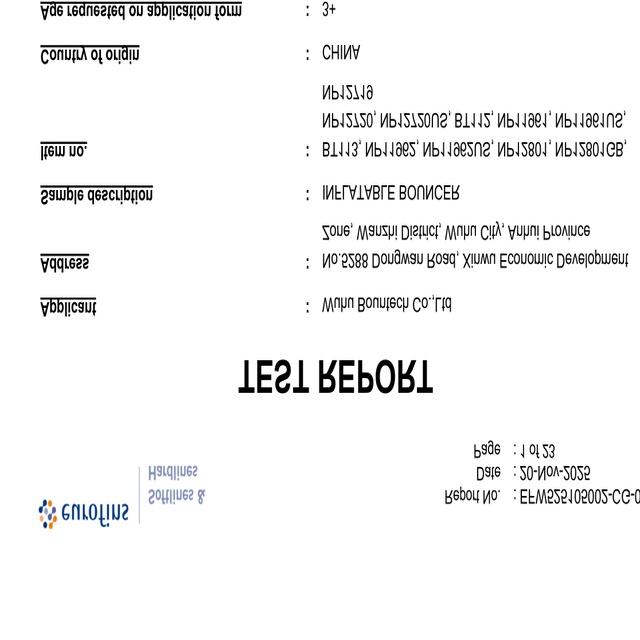eurofins: (37, 493, 131, 533)
